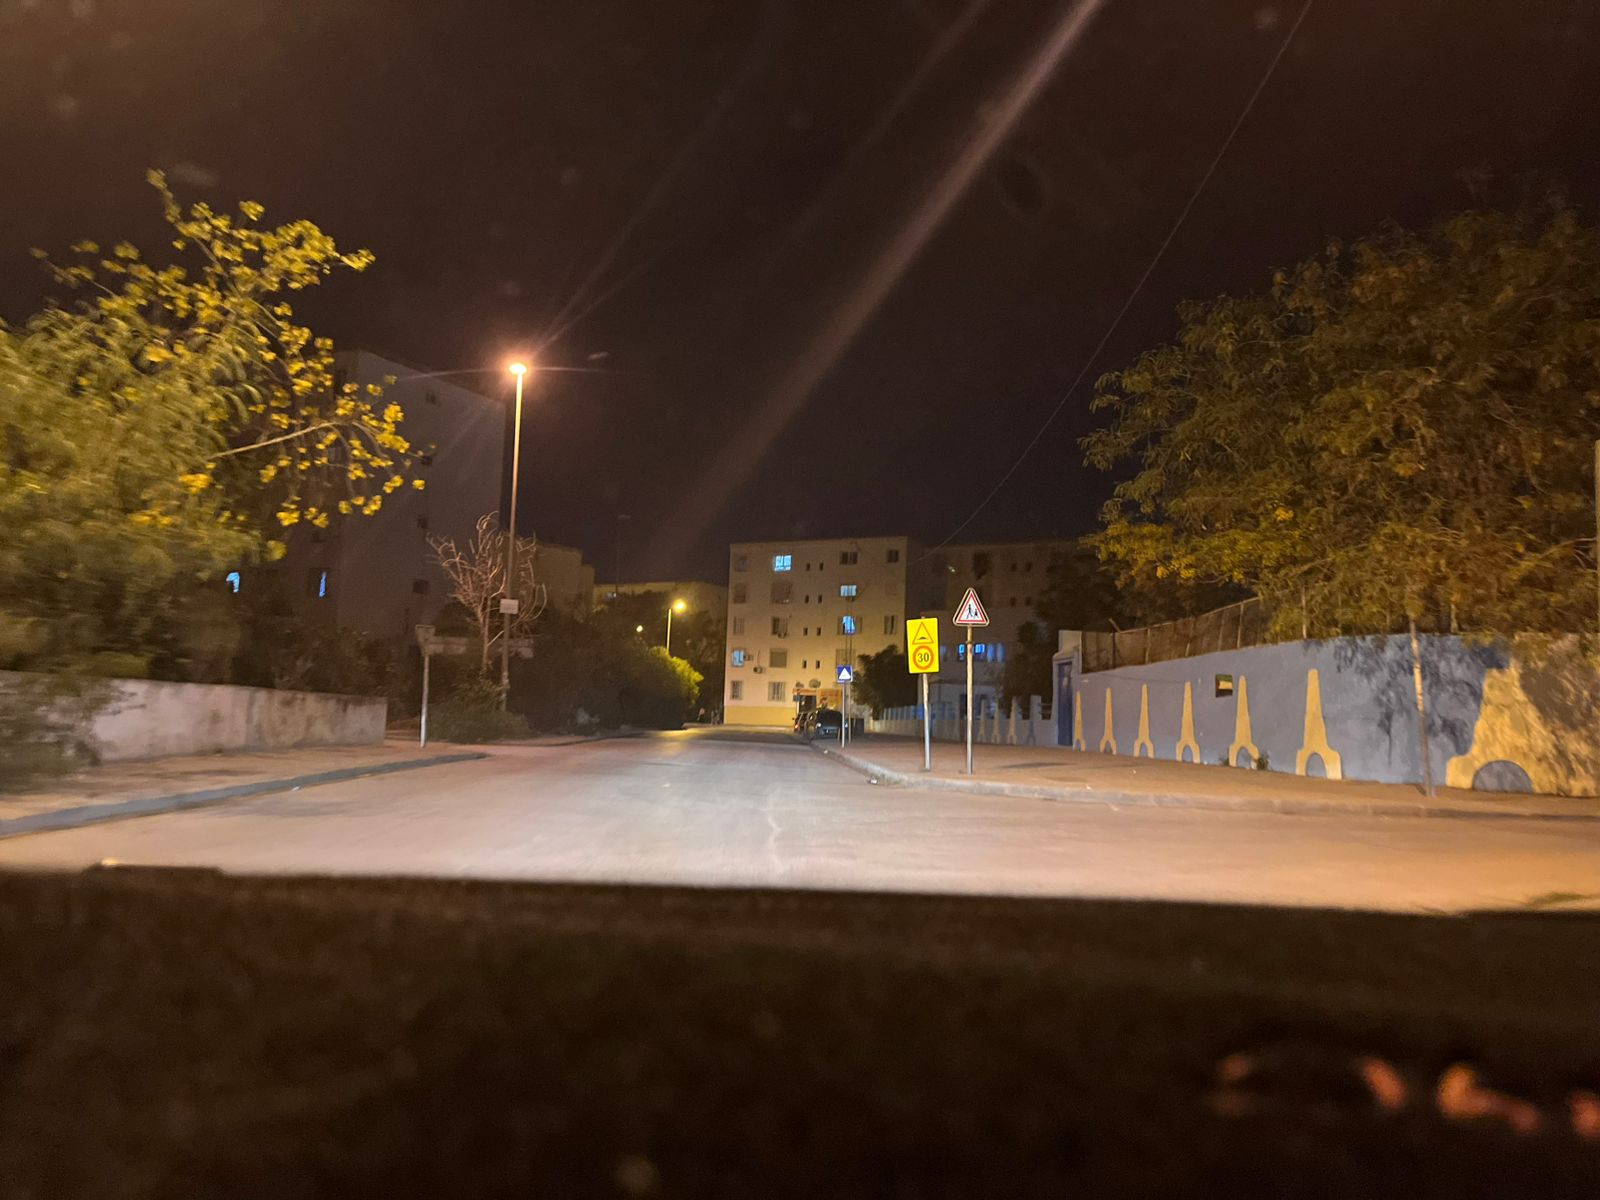SpeedLimit30: (906, 618, 940, 674)
